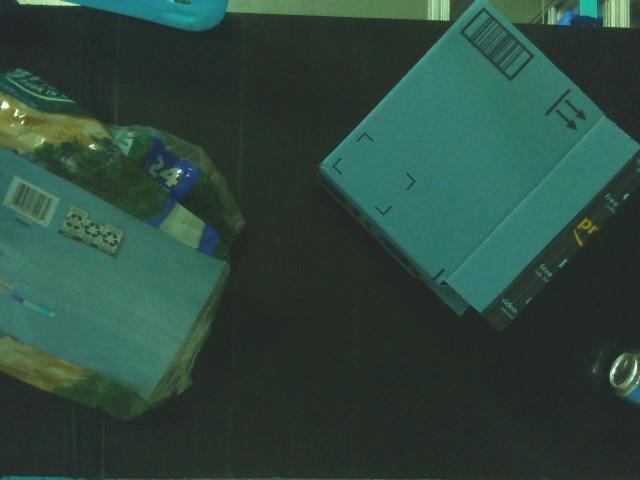cardboard: (312, 0, 640, 334)
metal: (605, 342, 640, 416)
plastic: (0, 62, 256, 427)
